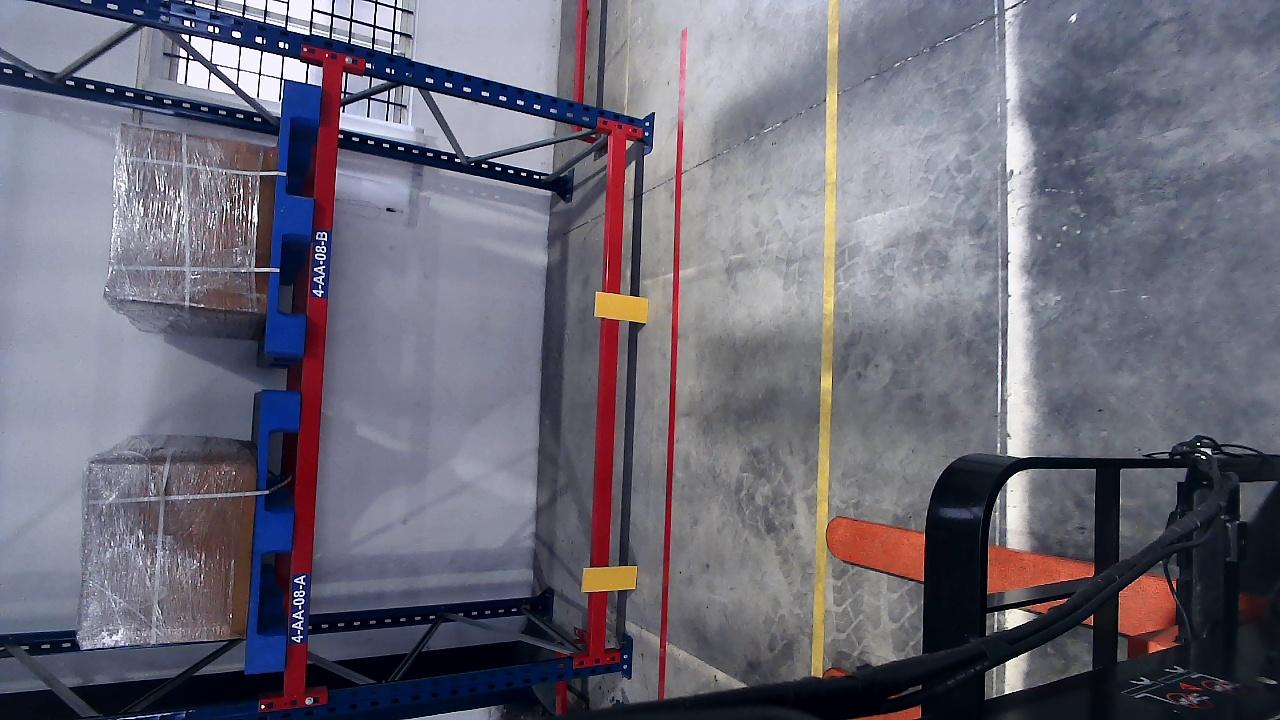h_rack: (278, 63, 344, 687), (583, 136, 625, 658)
orange_strip: (594, 291, 649, 322), (581, 566, 637, 592)
red_line: (657, 22, 688, 695)
small_pallet: (255, 389, 299, 672), (283, 79, 311, 356)
yellow_line: (812, 0, 838, 681)
